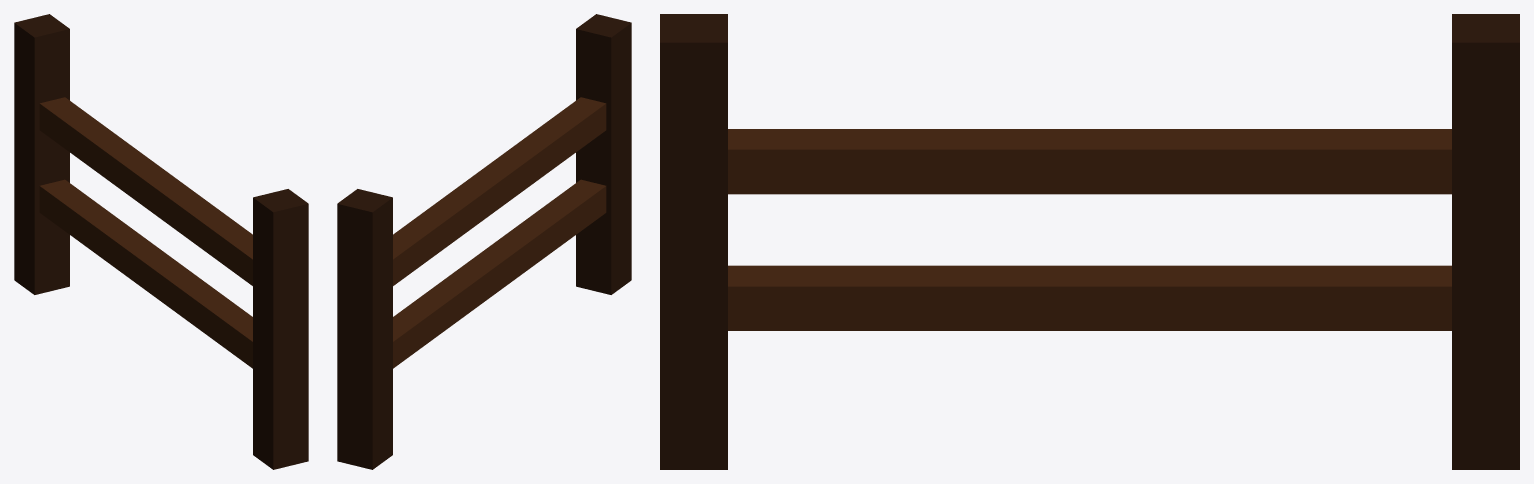
File: Fence_A.obj
The picture shows the model from 3 angles, left to right: view 1: azimuth 30°, elevation 25°; view 2: azimuth 150°, elevation 25°; view 3: azimuth 270°, elevation 25°; orthographic projection. The views are drawn at different scales.
Visible parts, largest first — view 1: FencePostB, FencePostA, FenceRailHigh, FenceRailLow; view 2: FencePostA, FencePostB, FenceRailHigh, FenceRailLow; view 3: FenceRailHigh, FenceRailLow, FencePostA, FencePostB.
Boxes of the visible parts, left/top/right/bottom form: FencePostB: left=253, top=189, right=308, bottom=469; FencePostA: left=14, top=14, right=69, bottom=294; FenceRailHigh: left=39, top=97, right=252, bottom=285; FenceRailLow: left=39, top=179, right=252, bottom=368; FencePostA: left=337, top=189, right=392, bottom=469; FencePostB: left=576, top=14, right=631, bottom=294; FenceRailHigh: left=393, top=97, right=606, bottom=285; FenceRailLow: left=393, top=179, right=606, bottom=368; FenceRailHigh: left=728, top=129, right=1451, bottom=194; FenceRailLow: left=728, top=265, right=1451, bottom=330; FencePostA: left=1452, top=14, right=1519, bottom=469; FencePostB: left=660, top=14, right=727, bottom=469.
Bounding box in the file's own units: 0.18 × 1.25 × 2.28.
